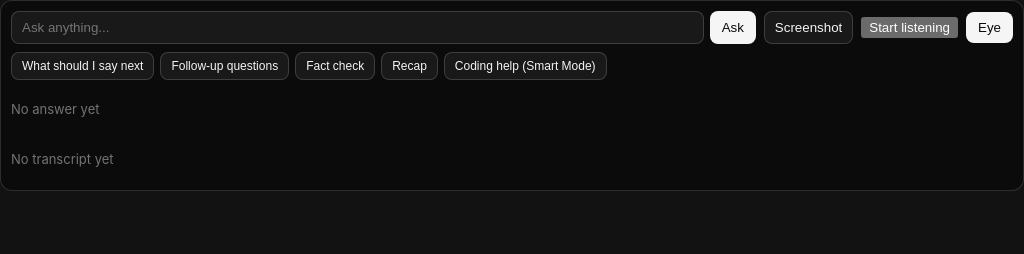
Test case: App › starting a session starts transcription and reveals detected insights
What coordinates should you click on to do the following:
click the button with aria-label "listening: off"
I would click on:
 (910, 28)
Its box is [861,17,958,38].
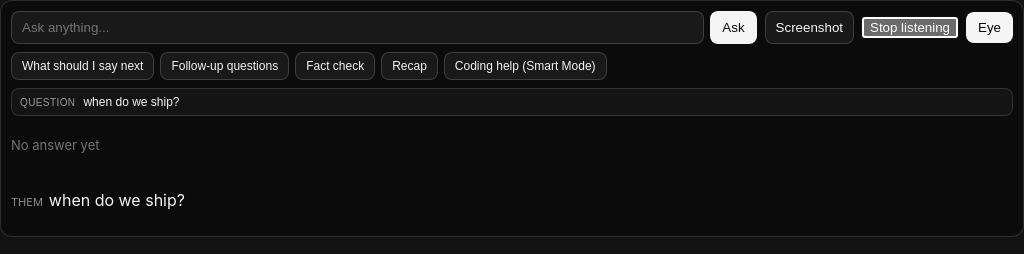
Now the 1st text "when do we ship?" is shown, box [83,95,180,109]
